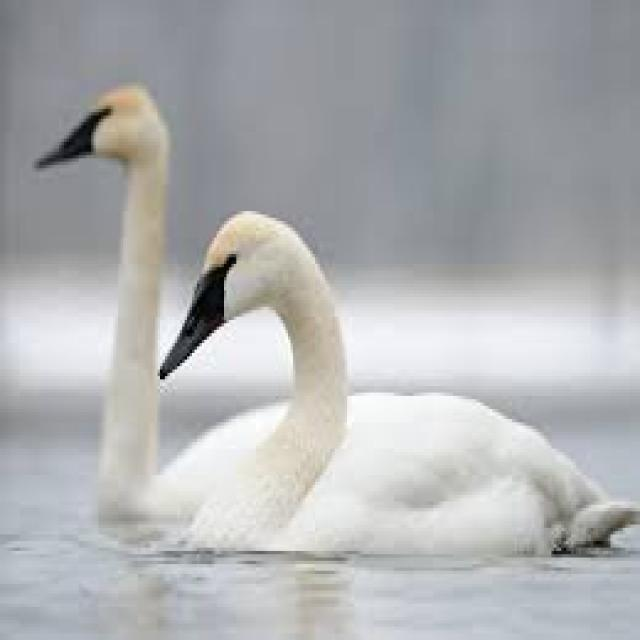swan: (158, 211, 633, 551), (37, 86, 286, 515)
